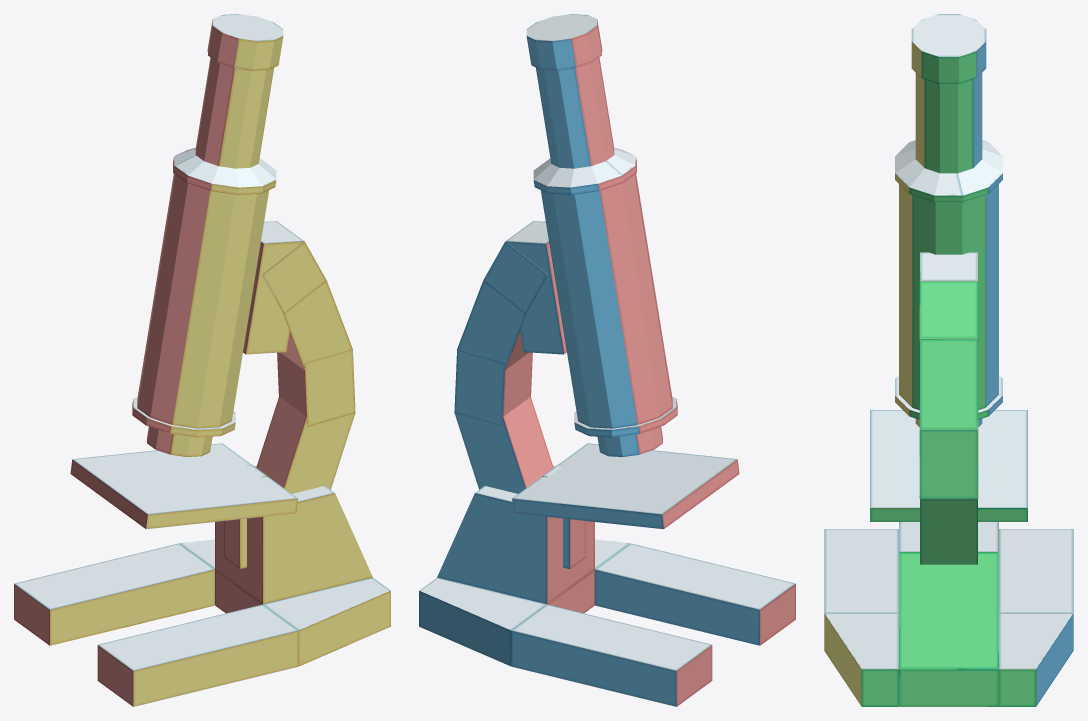
The model's file is microscope.obj.
3 views of the same model, side by side, from view 1: azimuth 30°, elevation 25°; view 2: azimuth 150°, elevation 25°; view 3: azimuth 270°, elevation 25° (orthographic). The views are drawn at different scales.
Parts seen in each view (by area): view 1: mesh, cylinder, cone; view 2: mesh, cylinder, cone; view 3: mesh, cylinder, cone.
Part boxes in pixels (<box>): mesh: <box>14,221,390,706</box>; cylinder: <box>132,14,283,456</box>; cone: <box>174,147,276,187</box>; mesh: <box>419,221,795,706</box>; cylinder: <box>526,14,677,456</box>; cone: <box>533,147,635,187</box>; mesh: <box>824,252,1073,706</box>; cylinder: <box>895,14,1002,426</box>; cone: <box>895,140,1002,195</box>.
Size of the model in its own units: 5 by 10.39 by 3.75.
Materials: 1 (1 with a texture image).
